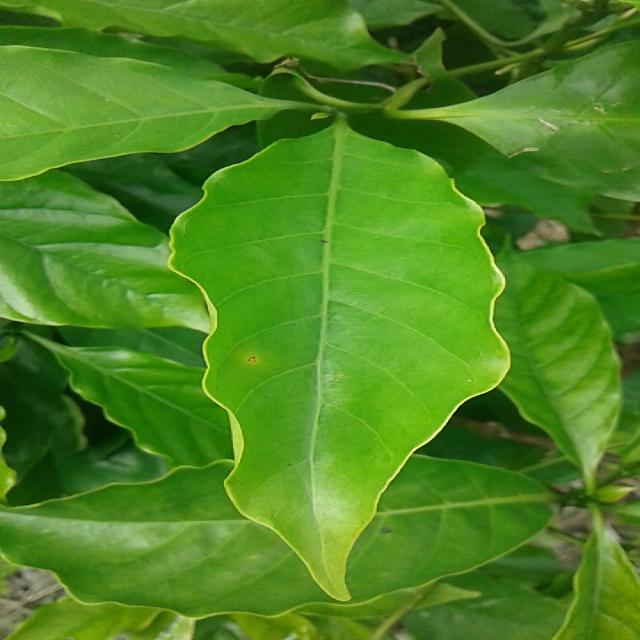Enfermedad-Roya: (166, 122, 511, 602)
